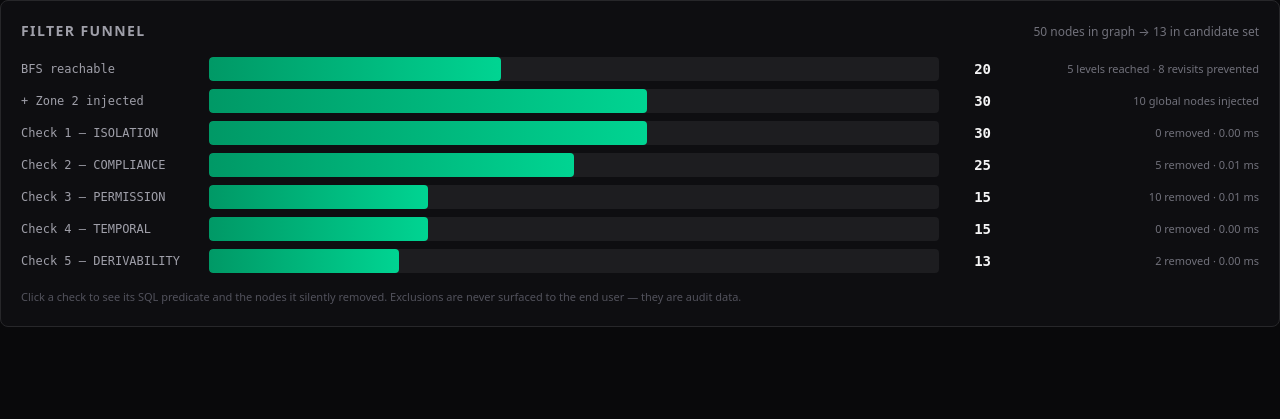
Test: FilterFunnel › shows 'nothing excluded' for a check with no exclusions
Click the text "Check 1 — ISOLATION" at (90, 133), box [21,126,158,140]
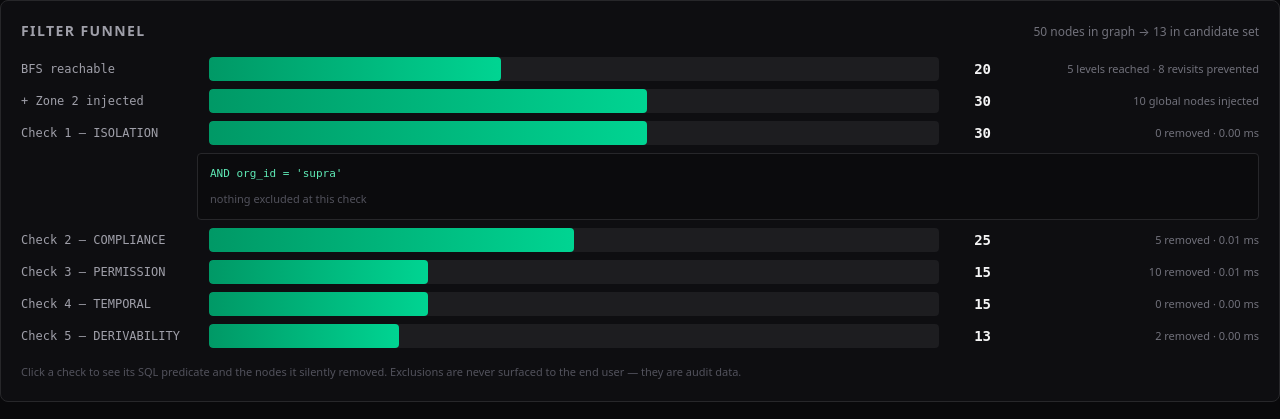
Now the text "nothing excluded at this check" is shown, box [210,190,367,206]
